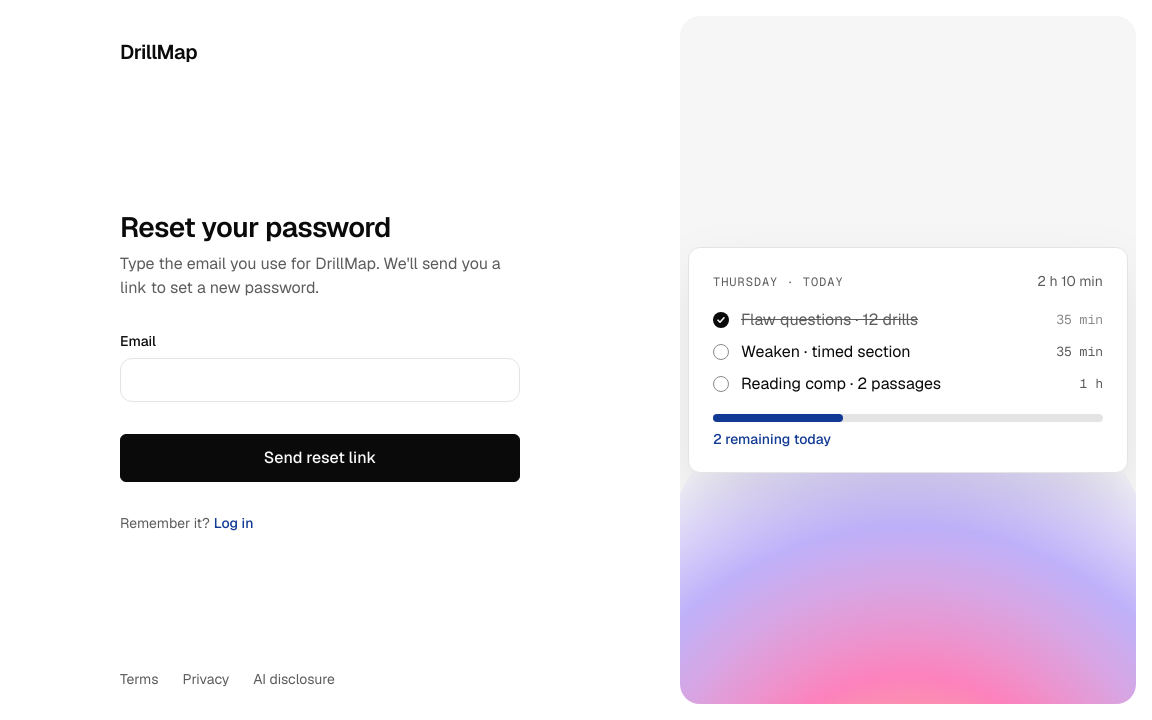
it: Forgot password › sends the typed email, then shows the one message that fits every email
The width and height of the screenshot is (1152, 720).
Expected: the heading "Reset your password" is shown, [120, 209, 391, 245]
Type "maya.chen@fastmail.com" into the field labelled "Email" at [320, 380], box [120, 358, 520, 402]
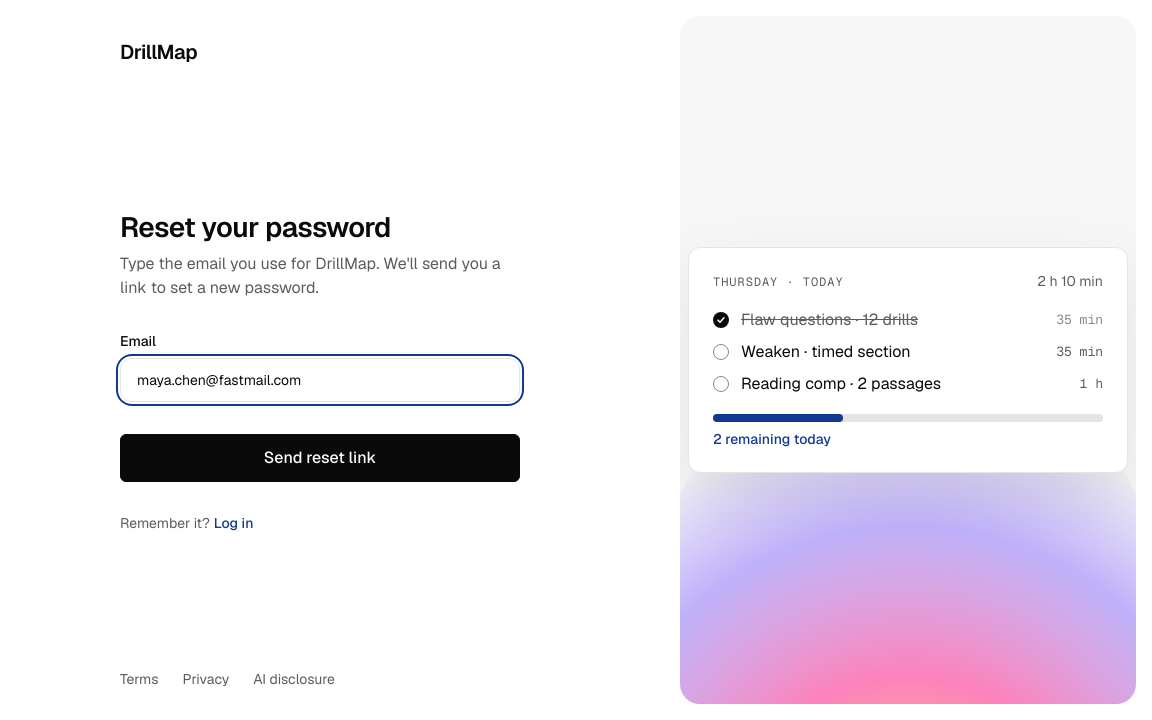
Click the button "Send reset link" at [320, 458], box [120, 434, 520, 482]
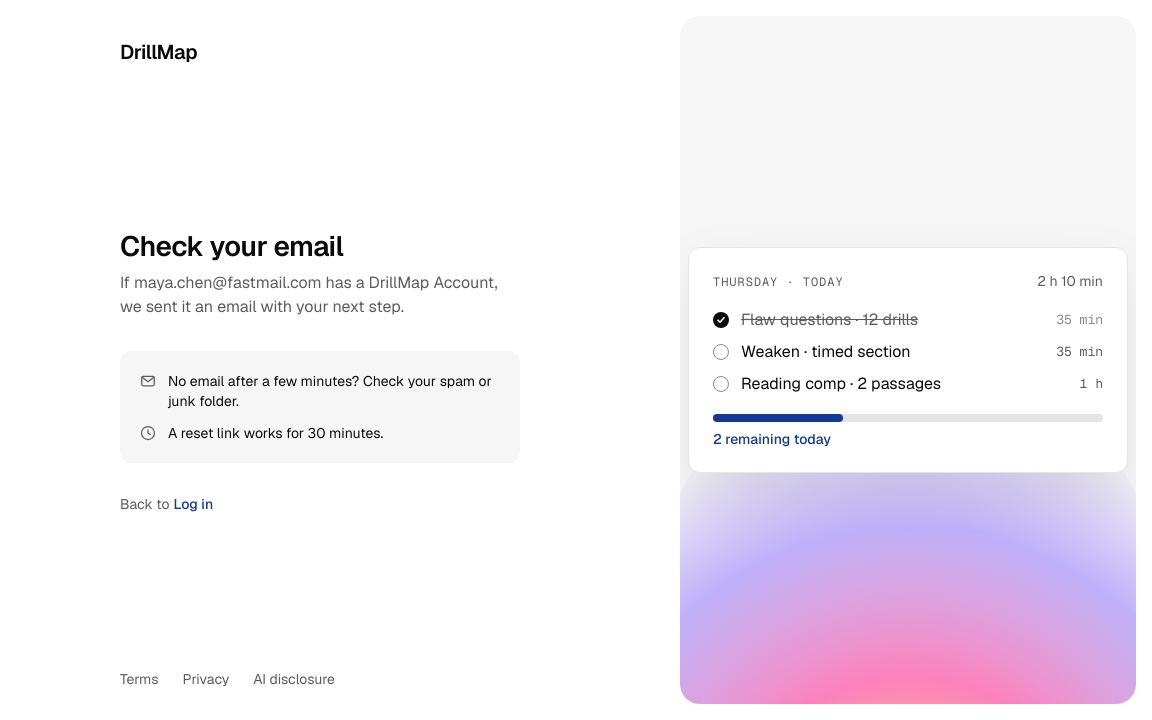
Expected: the heading "Check your email" is shown, [120, 228, 343, 264]
Expected: the text "If maya.chen@fastmail.com has a DrillMap Account, we sent it an email with your next step." is shown, [120, 272, 498, 317]
Expected: the text "A reset link works for 30 minutes." is shown, [140, 424, 383, 442]
